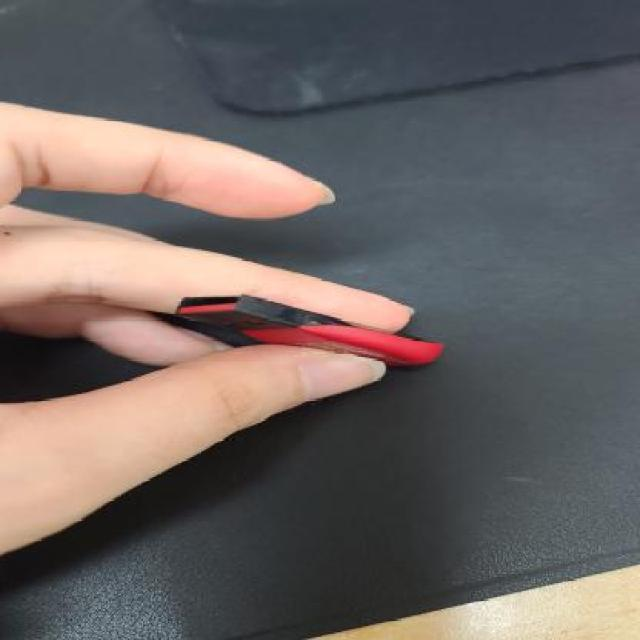Flashdisk: (174, 292, 446, 368), (0, 22, 9, 36)
